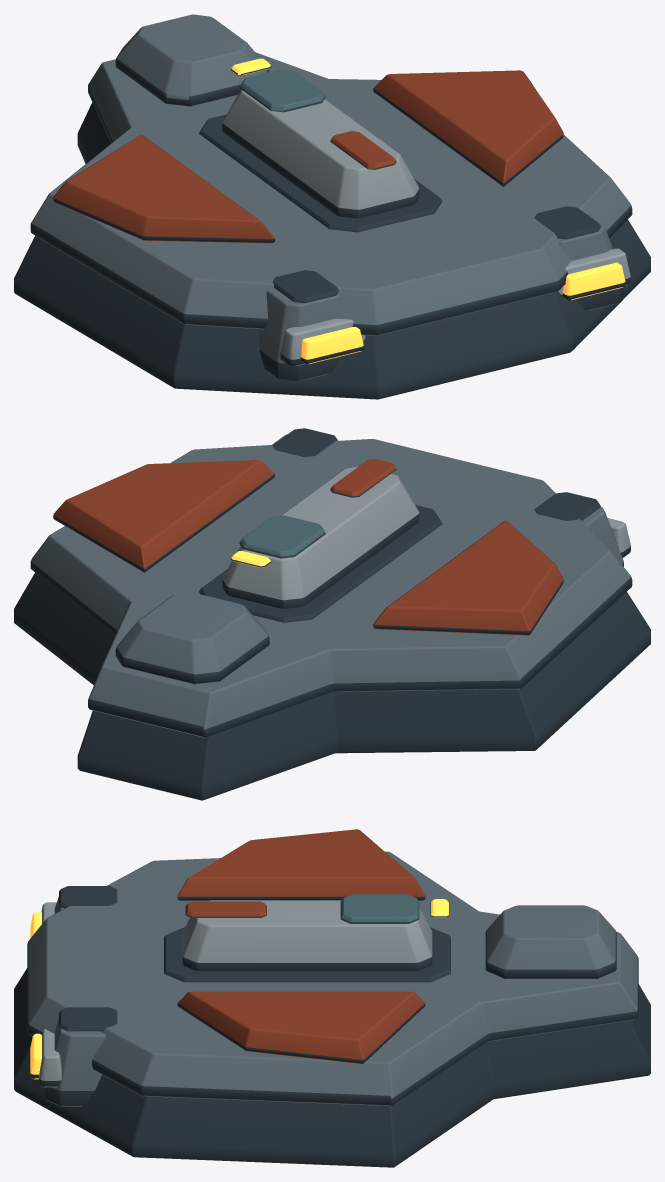
Rendered from enemy-medium-2slot.glb.
The picture shows the model from 3 angles, top to bottom: view 1: azimuth 30°, elevation 25°; view 2: azimuth 150°, elevation 25°; view 3: azimuth 270°, elevation 25°; orthographic projection. The views are drawn at different scales.
Visible parts, largest first — view 1: Armored deck, Graphite keel, Swept rust plate, Swept rust plate.001, Command spine, Raised bow shield, Recessed command well, Engine cowling, Recessed bridge glass, Engine cowling.001, Amber exhaust, Amber exhaust.001 (+5 smaller); view 2: Armored deck, Graphite keel, Swept rust plate.001, Swept rust plate, Command spine, Raised bow shield, Recessed command well, Recessed bridge glass, Rust axial stripe, Engine inset, Engine inset.001, Engine cowling; view 3: Armored deck, Graphite keel, Command spine, Swept rust plate.001, Swept rust plate, Raised bow shield, Recessed command well, Engine cowling.001, Recessed bridge glass, Rust axial stripe, Engine inset.001, Engine inset (+2 smaller).
Boxes of the visible parts, x1,y1,x2,y2 form: Armored deck: [30, 52, 632, 335]; Graphite keel: [14, 102, 650, 399]; Swept rust plate: [53, 134, 274, 243]; Swept rust plate.001: [373, 70, 563, 186]; Command spine: [222, 89, 419, 218]; Raised bow shield: [115, 14, 269, 106]; Recessed command well: [199, 114, 442, 232]; Engine cowling: [259, 289, 342, 381]; Recessed bridge glass: [239, 69, 325, 112]; Engine cowling.001: [558, 212, 623, 310]; Amber exhaust: [301, 327, 363, 364]; Amber exhaust.001: [563, 262, 625, 300]; Armored deck: [30, 439, 632, 737]; Graphite keel: [14, 572, 650, 800]; Swept rust plate.001: [53, 460, 274, 572]; Swept rust plate: [373, 520, 563, 635]; Command spine: [222, 466, 419, 608]; Raised bow shield: [115, 592, 269, 684]; Recessed command well: [199, 505, 442, 622]; Recessed bridge glass: [239, 515, 325, 558]; Rust axial stripe: [330, 459, 396, 497]; Engine inset: [534, 492, 600, 520]; Engine inset.001: [272, 428, 337, 457]; Engine cowling: [582, 507, 623, 566]; Armored deck: [27, 851, 638, 1105]; Graphite keel: [14, 968, 650, 1167]; Command spine: [182, 900, 432, 970]; Swept rust plate.001: [177, 991, 425, 1064]; Swept rust plate: [177, 829, 425, 900]; Raised bow shield: [485, 905, 616, 979]; Recessed command well: [164, 927, 450, 982]; Engine cowling.001: [45, 1018, 105, 1106]; Recessed bridge glass: [340, 894, 419, 923]; Rust axial stripe: [185, 901, 266, 917]; Engine inset.001: [59, 1007, 117, 1031]; Engine inset: [59, 886, 117, 908].
Bounding box in the file's own units: 4.6 × 1.25 × 5.1.
